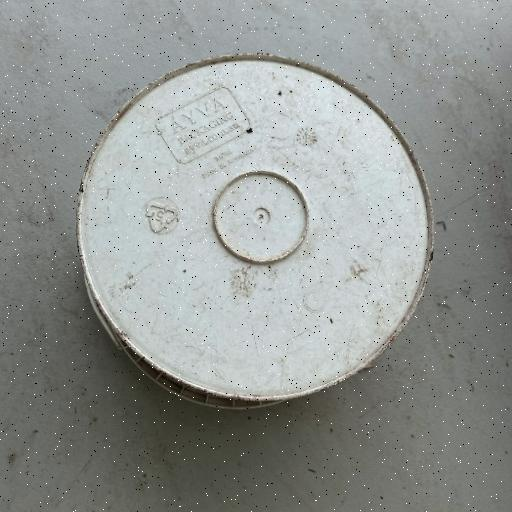Plastic: (74, 52, 436, 410)
